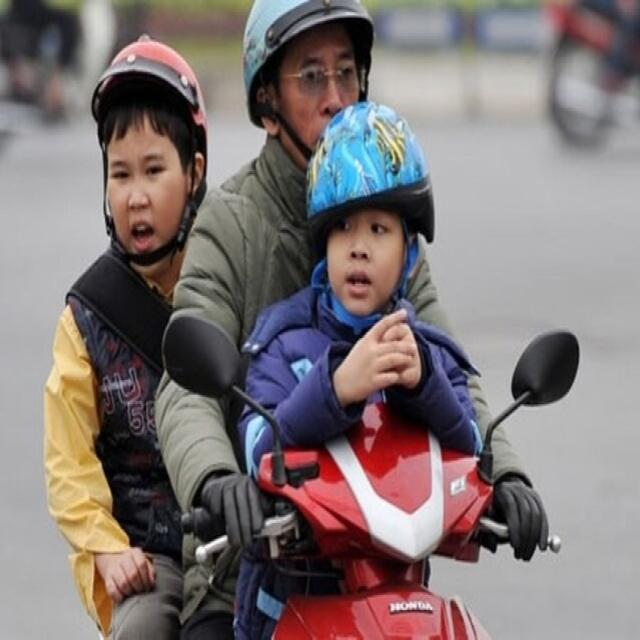1-2-helmet: (305, 101, 431, 232), (91, 39, 209, 152)
